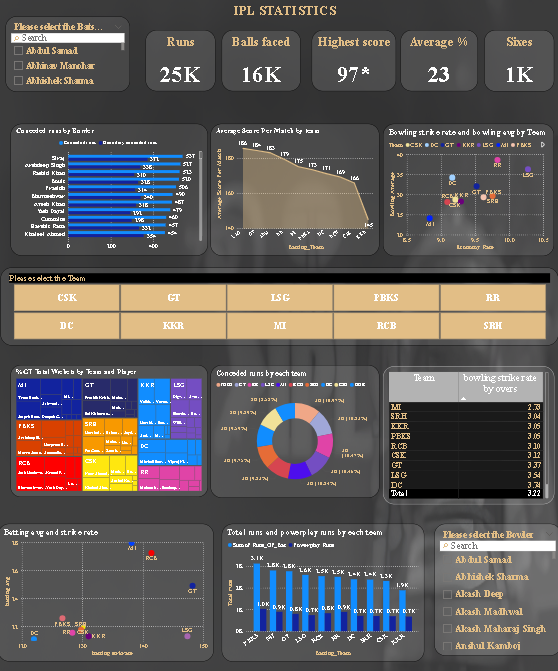

Layout of this report page (visuals, bound fields, positions):
{"tool":"powerbi","page":{"name":"IPL STATISTICS","canvas":[1500,1800],"ordinal":0},"visuals":[{"type":"cardVisual","title":"Runs","fields":{"Data":["ipl2025 batsman.Total Runs"]},"box":[393.3,80,186.7,163.3],"z":0},{"type":"slicer","fields":{"Values":["ipl2025 batsman.Player"]},"box":[20,41.7,331.7,201.7],"z":1000},{"type":"cardVisual","title":"Balls faced","fields":{"Data":["ipl2025 batsman.Total balls faced"]},"box":[596.7,80,210,163.3],"z":2000},{"type":"cardVisual","title":"Average %","fields":{"Data":["ipl2025 batsman.Avg"]},"box":[1073.3,80,206.7,163.3],"z":3000},{"type":"cardVisual","title":"Highest score","fields":{"Data":["ipl2025 batsman.Highest_score"]},"box":[835,80,225,163.3],"z":4000},{"type":"cardVisual","title":"Sixes","fields":{"Data":["ipl2025 batsman.sixes"]},"box":[1296,80,186,164],"z":5000},{"type":"textbox","title":"IPL   STATISTICS","box":[622.5,5,372.5,75],"z":6000},{"type":"clusteredBarChart","title":"Conceded runs by Bowler","fields":{"Category":["ipl2025 deliveries.Bowler"],"Y":["ipl2025 deliveries.Conceded runs","ipl2025 deliveries.Six conceded runs"]},"box":[34,330,526,352],"z":7000},{"type":"slicer","fields":{"Values":["ipl2025 deliveries.Bowler"]},"box":[1162,1395.3,338,352],"z":8000},{"type":"tableEx","fields":{"Values":["ipl2025 bowlers.Team","ipl2025 bowlers.bowling strike rate"]},"box":[1026.7,975,456.7,368.3],"z":9000},{"type":"treemap","fields":{"Values":["ipl2025 bowlers.Total Wickets"],"Group":["ipl2025 bowlers.Team"],"Details":["ipl2025 bowlers.Player"]},"box":[33.3,974.7,526,352],"z":10000},{"type":"areaChart","title":"Average Score Per Match by team","fields":{"Category":["ipl2025 deliveries.Batting_Team"],"Y":["ipl2025 deliveries.Average Score Per Match"]},"box":[566,330,450,352],"z":11000},{"type":"scatterChart","title":"Batting avg and strike rate","fields":{"X":["ipl2025 batsman.batting strkrate"],"Y":["ipl2025 batsman.batting avg"],"Category":["ipl2025 batsman.Team"]},"box":[0,1395.3,575,367.5],"z":12000},{"type":"scatterChart","title":"Bowling strike rate and bowling avg by Team","fields":{"Category":["ipl2025 bowlers.Team"],"X":["ipl2025 bowlers.Economy Rate"],"Y":["ipl2025 bowlers.Bowling Average"],"Series":["ipl2025 bowlers.Team"]},"box":[1026.2,330,456.2,352.5],"z":13000},{"type":"clusteredColumnChart","title":"Total runs and powerplay runs by each team","fields":{"Category":["ipl2025 deliveries.Batting_Team"],"Y":["ipl2025 deliveries.Runs_Of_Bat","ipl2025 deliveries.Powerplay Runs"]},"box":[596,1395.3,540,368],"z":14000},{"type":"donutChart","title":"Conceded runs by each team","fields":{"Category":["ipl2025 deliveries.Bowling_Team"],"Y":["ipl2025 deliveries.Conceded runs"],"Series":["ipl2025 deliveries.Bowling_Team"]},"box":[565.3,974.7,450,354],"z":15000},{"type":"slicer","fields":{"Values":["ipl2025 batsman.Team"]},"box":[7.7,713,1488.3,208.3],"z":16000}]}

Visuals, with their boxes in screenshot pixels (x1, y1, x2, y2), scaled from the page's 1500x1800 canvas onto the 558x671 screenshot:
"Runs" cardVisual: BBox(146, 30, 216, 91)
slicer - ipl2025 batsman.Player: BBox(7, 16, 131, 91)
"Balls faced" cardVisual: BBox(222, 30, 300, 91)
"Average %" cardVisual: BBox(399, 30, 476, 91)
"Highest score" cardVisual: BBox(311, 30, 394, 91)
"Sixes" cardVisual: BBox(482, 30, 551, 91)
"IPL   STATISTICS" textbox: BBox(232, 2, 370, 30)
"Conceded runs by Bowler" clusteredBarChart: BBox(13, 123, 208, 254)
slicer - ipl2025 deliveries.Bowler: BBox(432, 520, 557, 651)
tableEx - ipl2025 bowlers.Team x ipl2025 bowlers.bowling strike rate: BBox(382, 363, 552, 501)
treemap - ipl2025 bowlers.Total Wickets x ipl2025 bowlers.Team: BBox(12, 363, 208, 495)
"Average Score Per Match by team" areaChart: BBox(211, 123, 378, 254)
"Batting avg and strike rate" scatterChart: BBox(0, 520, 214, 657)
"Bowling strike rate and bowling avg by Team" scatterChart: BBox(382, 123, 551, 254)
"Total runs and powerplay runs by each team" clusteredColumnChart: BBox(222, 520, 423, 657)
"Conceded runs by each team" donutChart: BBox(210, 363, 378, 495)
slicer - ipl2025 batsman.Team: BBox(3, 266, 557, 343)
